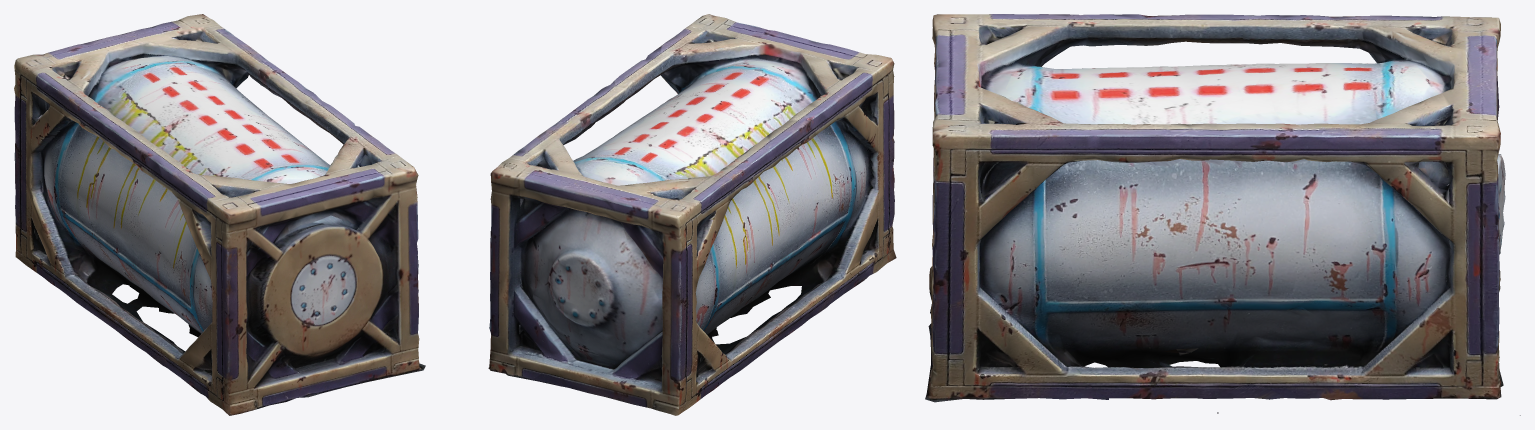
File: cistern-size-3.glb
3 views of the same model, side by side, from view 1: azimuth 30°, elevation 25°; view 2: azimuth 150°, elevation 25°; view 3: azimuth 270°, elevation 25° (orthographic). The views are drawn at different scales.
Parts seen in each view (by area): view 1: Cistern; view 2: Cistern; view 3: Cistern.
Part boxes in pixels (box(x1,y1,x2,y2)): Cistern: box(14, 14, 425, 415); Cistern: box(488, 14, 896, 415); Cistern: box(925, 14, 1520, 415).
Bounding box in the file's own units: 2.7 × 2.37 × 4.83.
Materials: 1 (1 with a texture image).
